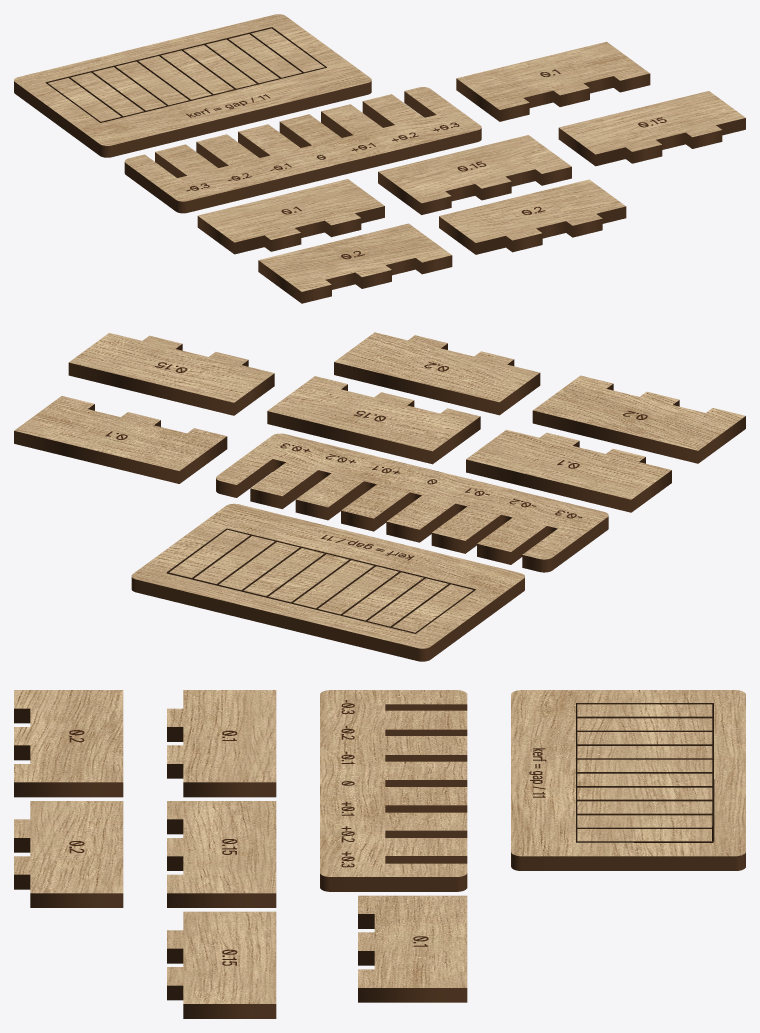
Rendered from calibration-set.glb.
The picture shows the model from 3 angles, top to bottom: view 1: azimuth 30°, elevation 25°; view 2: azimuth 150°, elevation 25°; view 3: azimuth 270°, elevation 25°; orthographic projection. The views are drawn at different scales.
Parts seen in each view (by area): view 1: body0, body1, body2, body6, body4, body3, body5, body7, cutline0; view 2: body0, body1, body6, body2, body4, body7, body5, body3, cutline0, engrave1; view 3: body0, body1, body2, body6, body4, body3, body5, body7, cutline0, engrave1.
Part boxes in pixels (x1,y1,x2,y2): body0: [14, 14, 371, 157]; body1: [124, 87, 481, 213]; body2: [456, 41, 650, 121]; body6: [258, 223, 452, 303]; body4: [378, 135, 571, 214]; body3: [197, 179, 384, 254]; body5: [558, 91, 745, 166]; body7: [439, 179, 626, 254]; cutline0: [45, 27, 326, 122]; body0: [131, 503, 524, 661]; body1: [216, 433, 608, 572]; body6: [532, 375, 745, 463]; body2: [14, 396, 227, 483]; body4: [267, 376, 480, 464]; body7: [334, 332, 540, 415]; body5: [68, 333, 274, 415]; body3: [466, 429, 671, 512]; cutline0: [166, 528, 475, 633]; engrave1: [280, 443, 581, 518]; body0: [511, 690, 745, 870]; body1: [320, 690, 467, 891]; body2: [358, 895, 467, 1002]; body6: [14, 690, 123, 797]; body4: [167, 801, 276, 907]; body3: [167, 690, 276, 797]; body5: [167, 911, 276, 1018]; body7: [14, 801, 123, 907]; cutline0: [576, 703, 714, 842]; engrave1: [341, 700, 354, 867].
Size of the model in its own units: 0.136 by 0.00317 by 0.134.
Materials: 4 (1 with a texture image).
